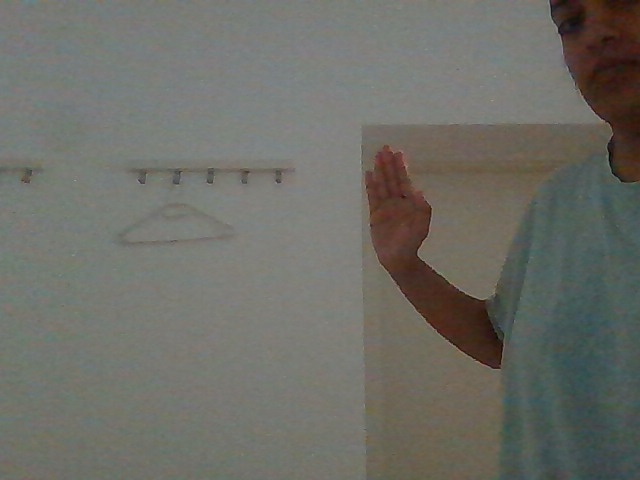open_hand: (351, 136, 447, 279)
